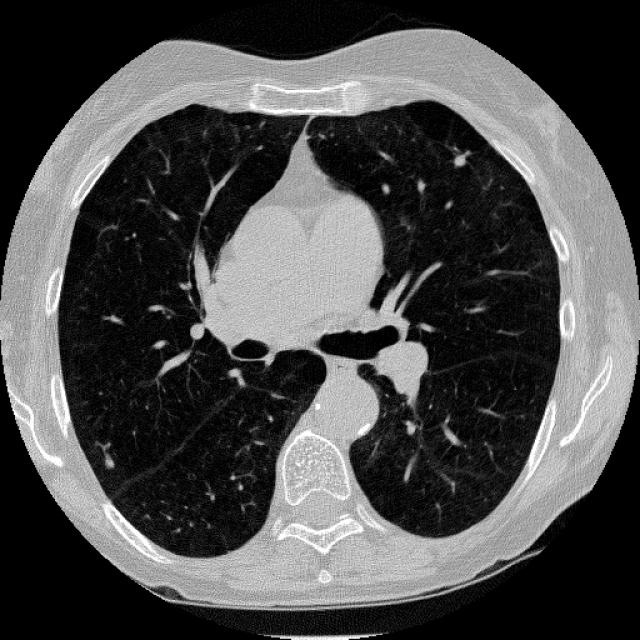nodule: (444, 146, 471, 174)
